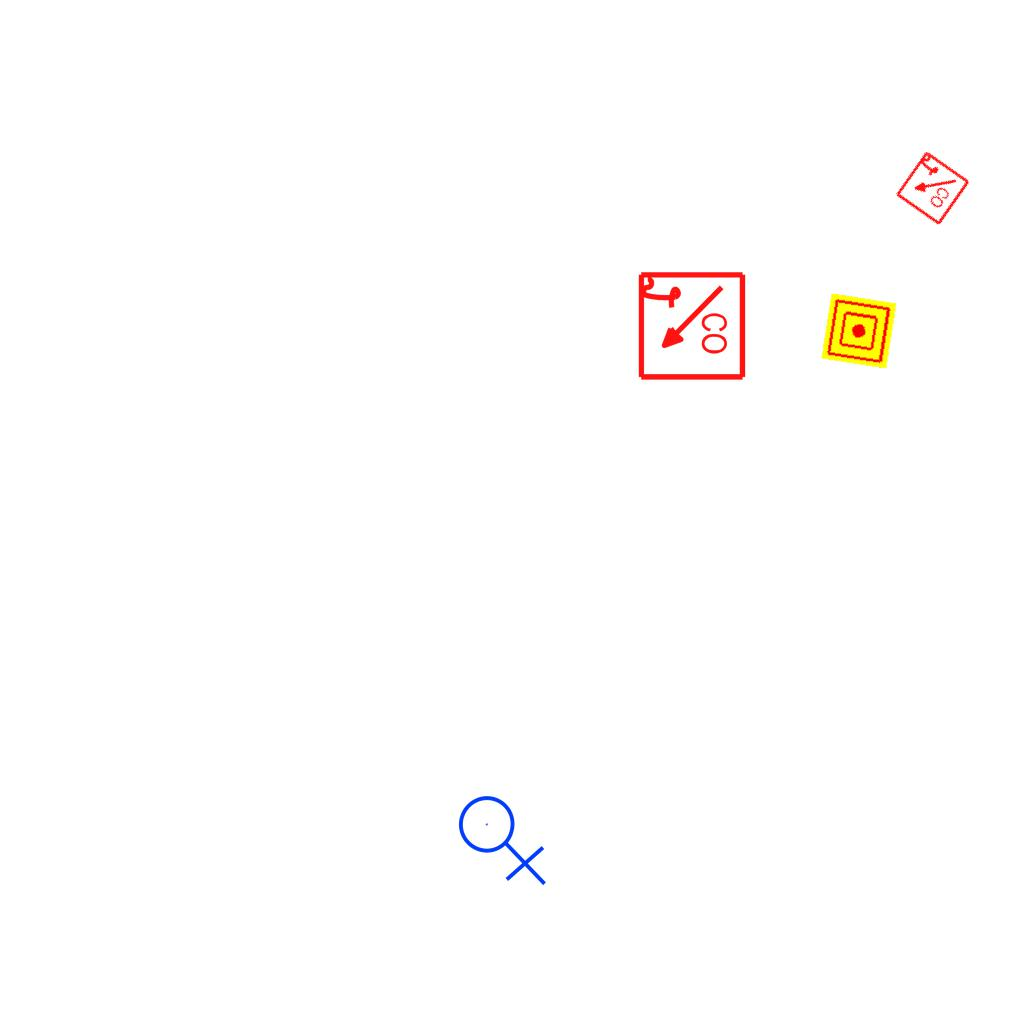Elektroanschluss_allgemein_230V_Geraeteanschlussdose_230V: (457, 787, 551, 886)
NAM-Nichtautomatischer_Melder: (821, 293, 897, 369)
ROA_Rauchmelder_optisch_mit_Signalgeber_(Sockelsirene): (634, 270, 747, 383), (893, 149, 971, 227)
